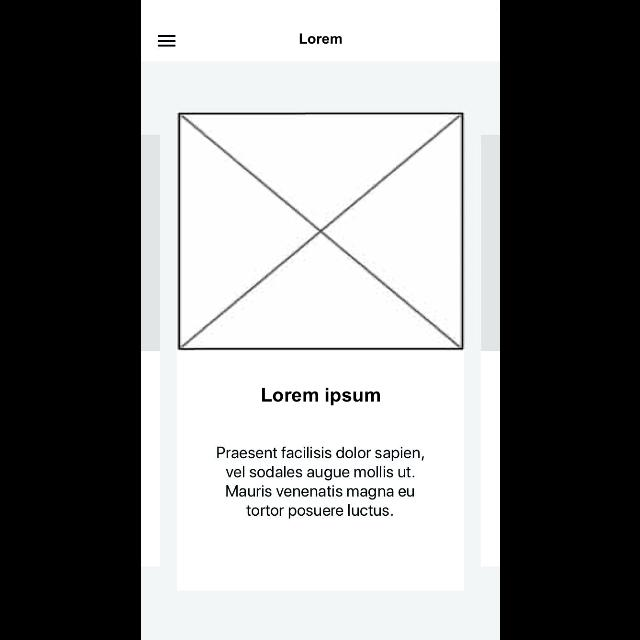icon: (157, 35, 175, 47)
image: (176, 112, 464, 350)
text: (216, 446, 424, 520), (261, 388, 379, 406), (298, 34, 342, 44)
